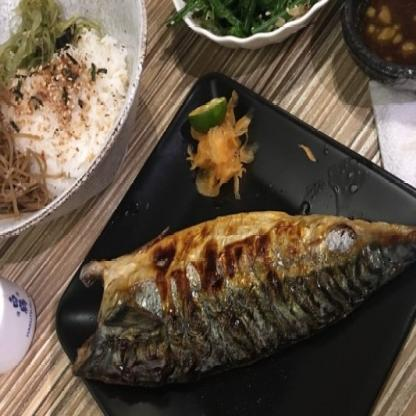Peixe: (67, 205, 416, 385)
